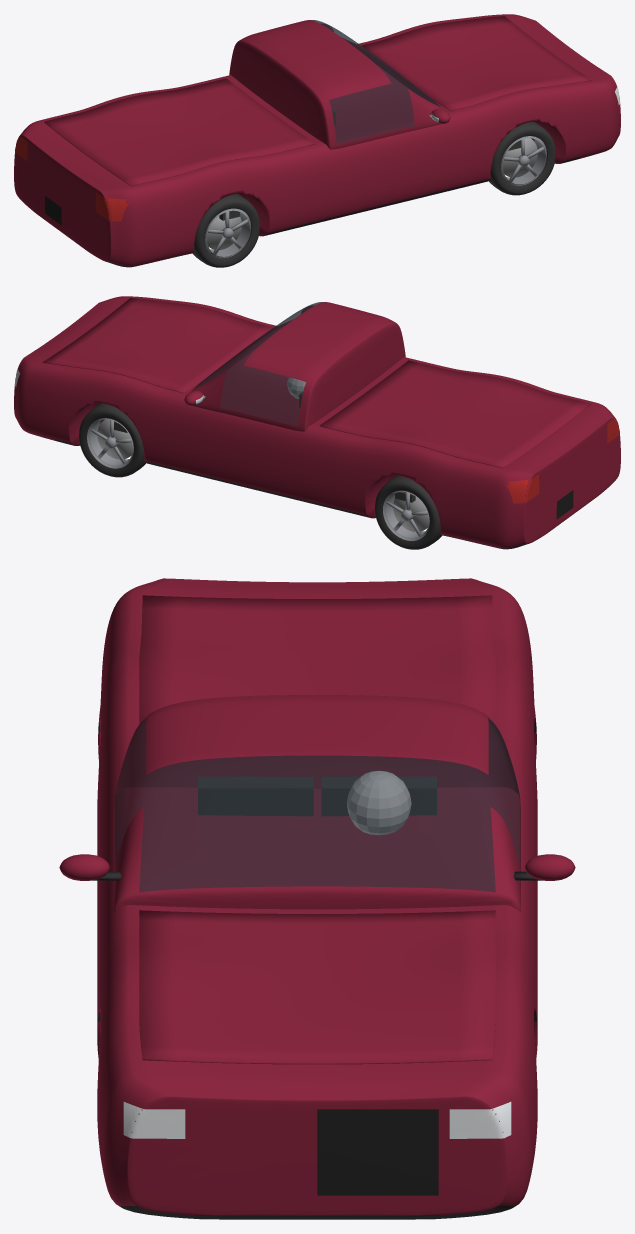
The model's file is derby_marlow_rancher.glb.
3 renders of one model, top to bottom at view 1: azimuth 30°, elevation 25°; view 2: azimuth 150°, elevation 25°; view 3: azimuth 270°, elevation 25°, orthographic. The views are drawn at different scales.
Visible parts, largest first — view 1: body, cabin, boot, bonnet, bumper_rear, wheel_fr_spin, wheel_rr_spin, bumper_front; view 2: body, cabin, boot, bonnet, bumper_rear, wheel_fl_spin, wheel_rl_spin, bumper_front; view 3: cabin, bumper_front, body, bonnet, boot, interior, bumper_rear, mirror_l, mirror_r.
Part boxes in pixels (<box>): body: <box>38,14,599,266</box>; cabin: <box>229,20,448,149</box>; boot: <box>44,78,315,186</box>; bonnet: <box>361,16,591,111</box>; bumper_rear: <box>14,121,138,267</box>; wheel_fr_spin: <box>489,121,555,195</box>; wheel_rr_spin: <box>192,194,259,267</box>; bumper_front: <box>499,14,620,153</box>; body: <box>35,296,596,548</box>; cabin: <box>186,302,405,431</box>; boot: <box>319,360,590,468</box>; bonnet: <box>43,298,273,393</box>; bumper_rear: <box>496,403,620,549</box>; wheel_fl_spin: <box>79,403,145,477</box>; wheel_rl_spin: <box>375,476,442,549</box>; bumper_front: <box>14,296,135,435</box>; cabin: <box>114,695,520,912</box>; bumper_front: <box>101,1056,533,1219</box>; body: <box>97,594,537,1169</box>; bonnet: <box>139,910,495,1064</box>; boot: <box>139,595,495,724</box>; interior: <box>198,771,436,835</box>; bumper_rear: <box>107,578,527,628</box>; mirror_l: <box>513,854,575,880</box>; mirror_r: <box>59,854,121,880</box>.
Size of the model in its own units: 5.11 by 1.4 by 2.23.
